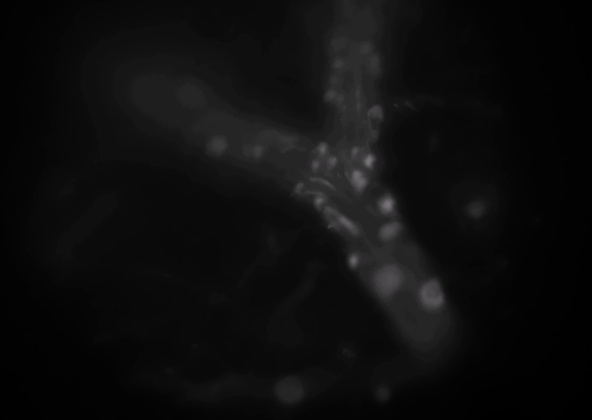cell: (425, 287, 439, 301), (370, 105, 384, 119), (349, 146, 363, 160), (363, 155, 377, 169), (315, 141, 329, 155), (309, 157, 323, 171), (325, 154, 339, 168), (325, 88, 339, 102), (350, 169, 364, 183), (334, 91, 348, 105), (355, 175, 369, 189), (346, 253, 360, 267), (382, 271, 396, 285), (380, 227, 394, 241), (381, 195, 395, 209), (388, 222, 402, 236), (381, 199, 395, 213), (312, 197, 326, 211), (292, 181, 306, 195), (251, 145, 265, 159), (212, 139, 226, 153), (359, 42, 373, 56), (367, 53, 381, 67), (333, 38, 347, 52), (367, 127, 381, 141), (330, 57, 344, 71)
